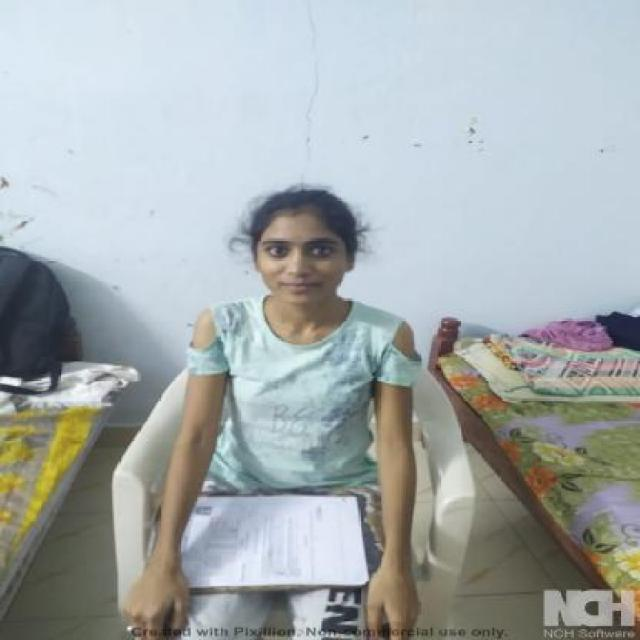good: (156, 172, 442, 501)
